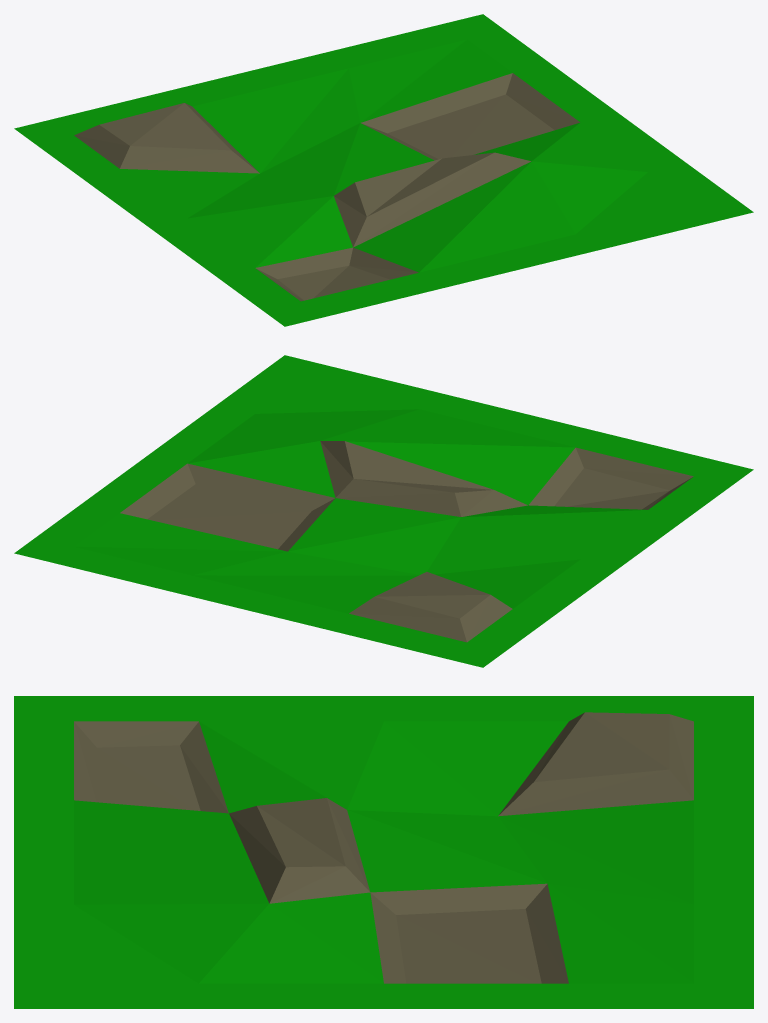
File: Ground1.FBX
3 renders of one model, top to bottom at view 1: azimuth 30°, elevation 25°; view 2: azimuth 150°, elevation 25°; view 3: azimuth 270°, elevation 25°, orthographic. The views are drawn at different scales.
Parts seen in each view (by area): view 1: Ground1; view 2: Ground1; view 3: Ground1.
Part boxes in pixels (x1,y1,x2,y2): Ground1: (14, 14, 753, 326); Ground1: (14, 355, 753, 667); Ground1: (14, 696, 753, 1008).
Size of the model in its own units: 157 by 15.23 by 157.
Materials: 1 (1 with a texture image).
